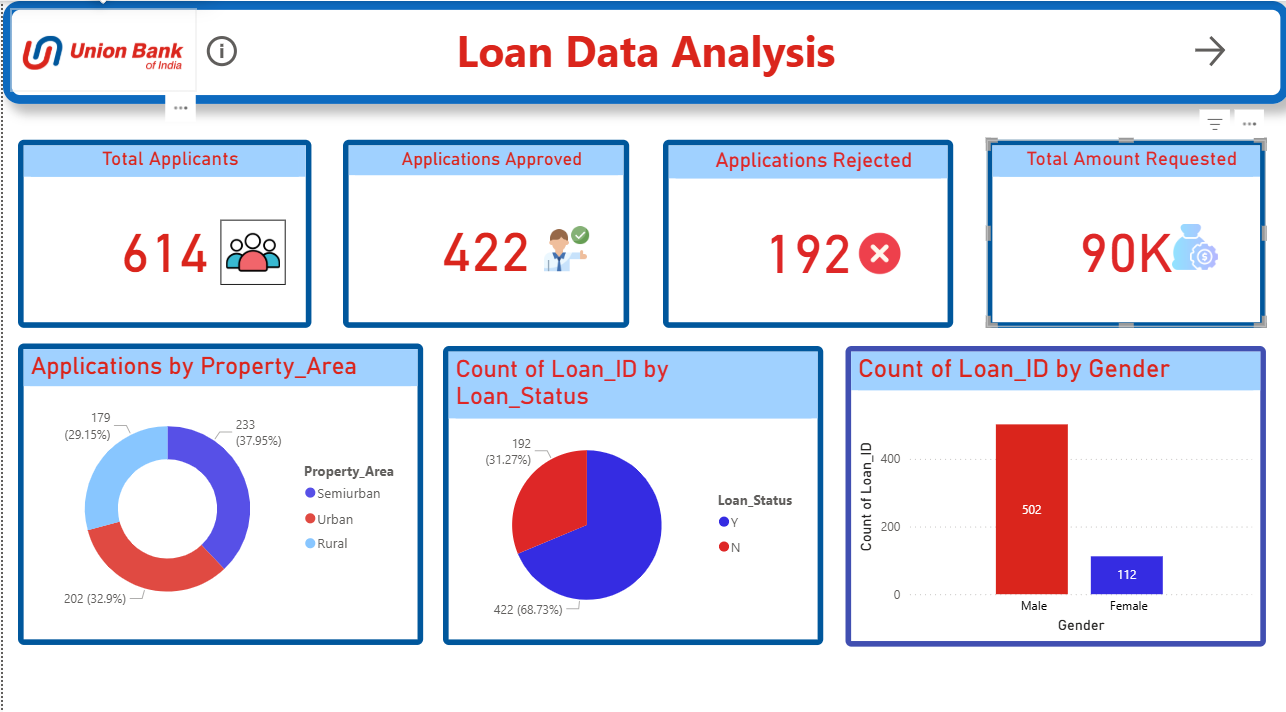

This screenshot's page, from the dashboard's own definition file:
{"tool":"powerbi","page":{"name":"Overview","canvas":[1280,720],"ordinal":0},"visuals":[{"type":"textbox","box":[0,0,1280,102],"z":0},{"type":"card","title":"Total Applicants","fields":{"Values":["CountNonNull(loan.Loan_ID)"]},"box":[15,138,292,187],"z":1000},{"type":"card","title":"Applications Rejected","fields":{"Values":["CountNonNull(loan.Loan_ID)"]},"box":[656.2,137.5,288.8,187.5],"z":2000},{"type":"card","title":"Total Amount Requested","fields":{"Values":["Sum(loan.LoanAmount)"]},"box":[978.8,137.5,277.5,187.5],"z":3000},{"type":"card","title":"Applications Approved","fields":{"Values":["CountNonNull(loan.Loan_ID)"]},"box":[338.8,137.5,285,187.5],"z":4000},{"type":"image","box":[15,10,170,83.8],"z":5000},{"type":"columnChart","fields":{"Category":["loan.Gender"],"Y":["CountNonNull(loan.Loan_ID)"]},"box":[839,343,418,299],"z":6000},{"type":"donutChart","title":"Applications by Property_Area","fields":{"Category":["loan.Property_Area"],"Y":["CountNonNull(loan.Property_Area)"]},"box":[15,341,403,300],"z":7000},{"type":"actionButton","box":[1180,30,100,40],"z":8000},{"type":"actionButton","box":[198.3,30,100,40],"z":9000},{"type":"pieChart","fields":{"Category":["loan.Loan_Status"],"Y":["CountNonNull(loan.Loan_ID)"]},"box":[437.5,343.8,378.8,297.5],"z":10000},{"type":"image","box":[217,218,65,65],"z":11000},{"type":"image","box":[411,218,300,58],"z":12000},{"type":"image","box":[839,214,68,75],"z":13000},{"type":"image","box":[1092,214,188,62],"z":14000},{"type":"actionButton","box":[7.5,7.5,185,83.8],"z":15000}]}

Visuals, with their boxes in screenshot pixels (x1, y1, x2, y2):
textbox: bbox=(0, 0, 1285, 100)
"Total Applicants" card: bbox=(12, 136, 308, 326)
"Applications Rejected" card: bbox=(661, 136, 954, 326)
"Total Amount Requested" card: bbox=(988, 136, 1269, 326)
"Applications Approved" card: bbox=(340, 136, 629, 326)
image: bbox=(12, 7, 184, 92)
columnChart - loan.Gender x CountNonNull(loan.Loan_ID): bbox=(847, 344, 1270, 647)
"Applications by Property_Area" donutChart: bbox=(12, 342, 420, 646)
actionButton: bbox=(1192, 27, 1285, 68)
actionButton: bbox=(198, 27, 299, 68)
pieChart - loan.Loan_Status x CountNonNull(loan.Loan_ID): bbox=(440, 345, 824, 646)
image: bbox=(216, 217, 282, 283)
image: bbox=(413, 217, 717, 276)
image: bbox=(847, 213, 915, 289)
image: bbox=(1103, 213, 1285, 276)
actionButton: bbox=(4, 4, 192, 89)
